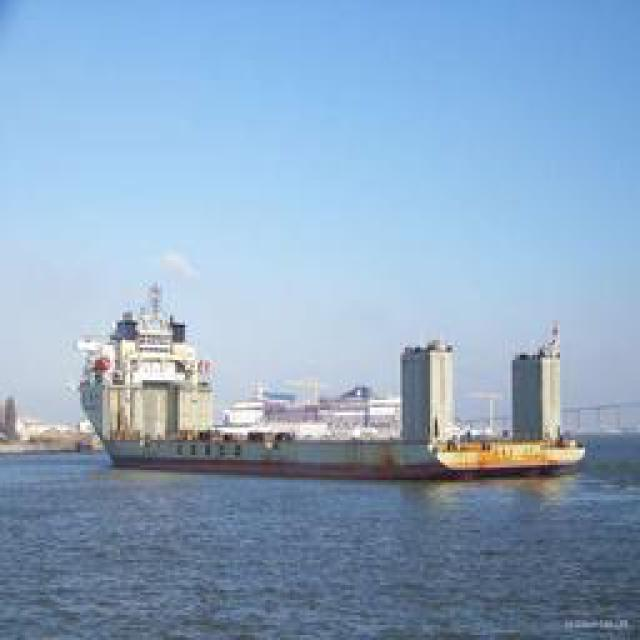Ship: (76, 281, 589, 479)
